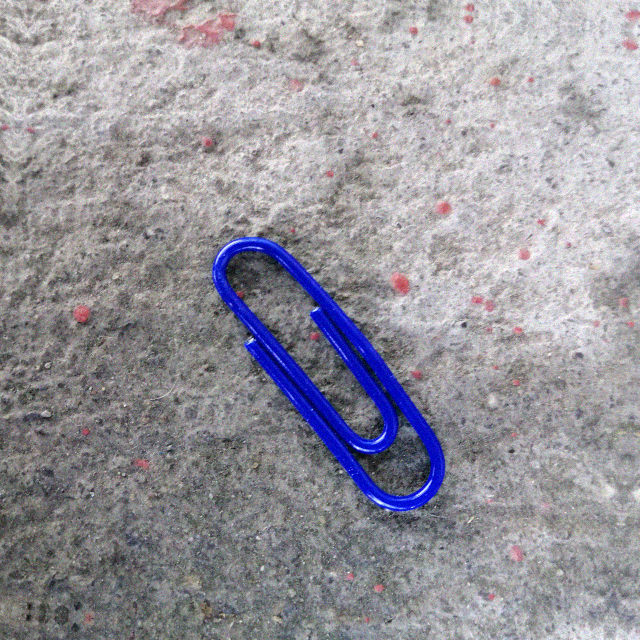pin: (196, 232, 462, 525)
